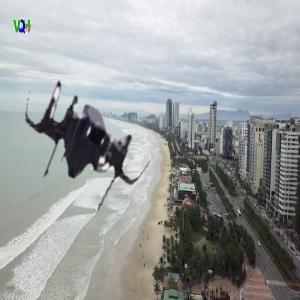drone: (12, 67, 160, 215)
